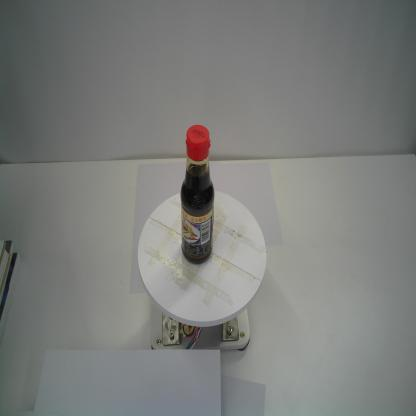Seasoner: (179, 122, 216, 265)
